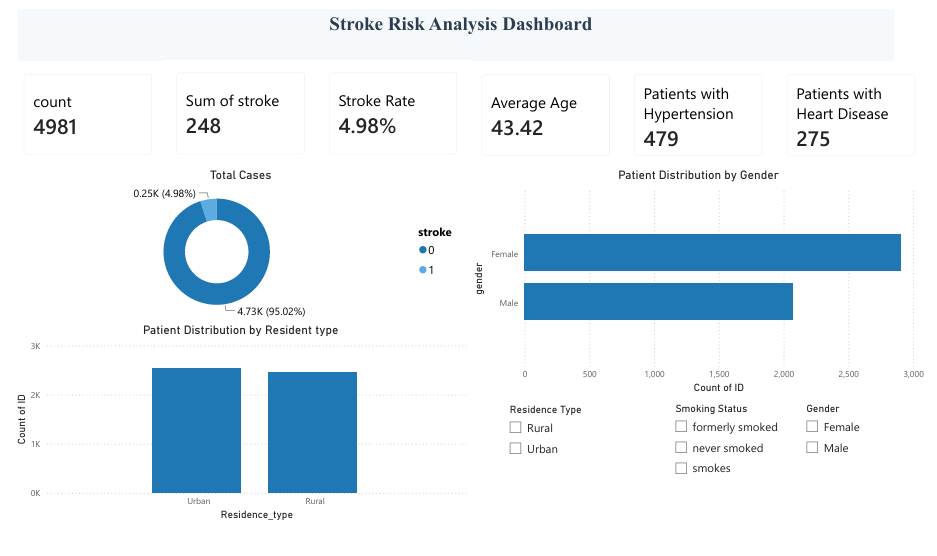

What the dashboard file says about the page in this screenshot:
{"tool":"powerbi","page":{"name":" Summary","canvas":[1280,720],"ordinal":0},"visuals":[{"type":"textbox","box":[9.4,0,1222.7,71.8],"z":0},{"type":"cardVisual","fields":{"Data":["_Measures.Measure"]},"box":[0,73.3,213.3,146.7],"z":1000},{"type":"cardVisual","fields":{"Data":["Sum(stroke_data.stroke)"]},"box":[213.3,71.7,213.3,148.3],"z":2000},{"type":"cardVisual","fields":{"Data":["stroke_data.stroke_rate"]},"box":[426.7,71.7,213.3,148.3],"z":3000},{"type":"cardVisual","fields":{"Data":["Sum(stroke_data.heart_disease)"]},"box":[1066.7,73.3,213.3,148.3],"z":4000},{"type":"cardVisual","fields":{"Data":["Avg(stroke_data.age)"]},"box":[640,73.3,213.3,148.3],"z":5000},{"type":"cardVisual","fields":{"Data":["Sum(stroke_data.hypertension)"]},"box":[853.3,73.3,213.3,148.3],"z":6000},{"type":"donutChart","title":"Total Cases","fields":{"Category":["stroke_data.stroke"],"Y":["Count(stroke_data.ID)"]},"box":[0,220,640,218],"z":7000},{"type":"clusteredBarChart","title":"Patient Distribution by Gender","fields":{"Category":["stroke_data.gender"],"Y":["Count(stroke_data.ID)"]},"box":[640,222,640,320],"z":8000},{"type":"clusteredColumnChart","title":"Patient Distribution by Resident type","fields":{"Category":["stroke_data.Residence_type"],"Y":["Count(stroke_data.ID)"]},"box":[0,436.8,640.4,282.5],"z":9000},{"type":"slicer","fields":{"Values":["stroke_data.gender"]},"box":[1098,546,182,128],"z":10000},{"type":"slicer","fields":{"Values":["stroke_data.Smoking  Status"]},"box":[914,546,184,128],"z":11000},{"type":"slicer","fields":{"Values":["stroke_data.Residence_type"]},"box":[683.3,546.7,230,128.3],"z":12000}]}

Visuals, with their boxes on the page's 1280x720 design canvas (x1, y1, x2, y2). These are canvas units, not pixel positions in the 937x556 screenshot, which may show the page scaled, cropped or inside an application window:
textbox: bbox=(9, 0, 1232, 72)
cardVisual - _Measures.Measure: bbox=(0, 73, 213, 220)
cardVisual - Sum(stroke_data.stroke): bbox=(213, 72, 427, 220)
cardVisual - stroke_data.stroke_rate: bbox=(427, 72, 640, 220)
cardVisual - Sum(stroke_data.heart_disease): bbox=(1067, 73, 1280, 222)
cardVisual - Avg(stroke_data.age): bbox=(640, 73, 853, 222)
cardVisual - Sum(stroke_data.hypertension): bbox=(853, 73, 1067, 222)
"Total Cases" donutChart: bbox=(0, 220, 640, 438)
"Patient Distribution by Gender" clusteredBarChart: bbox=(640, 222, 1280, 542)
"Patient Distribution by Resident type" clusteredColumnChart: bbox=(0, 437, 640, 719)
slicer - stroke_data.gender: bbox=(1098, 546, 1280, 674)
slicer - stroke_data.Smoking  Status: bbox=(914, 546, 1098, 674)
slicer - stroke_data.Residence_type: bbox=(683, 547, 913, 675)
